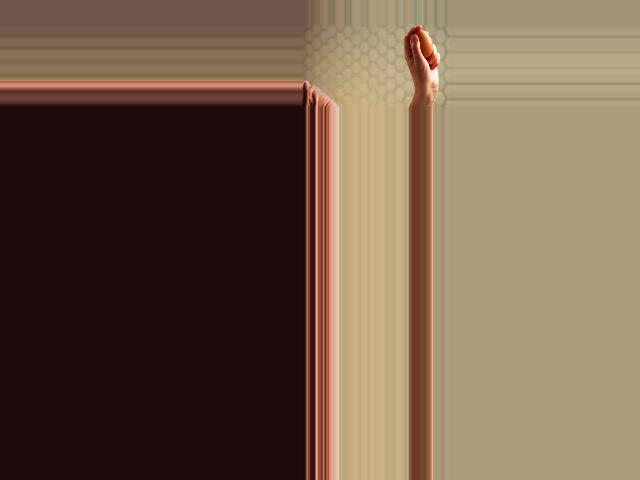egg: (412, 30, 434, 58)
